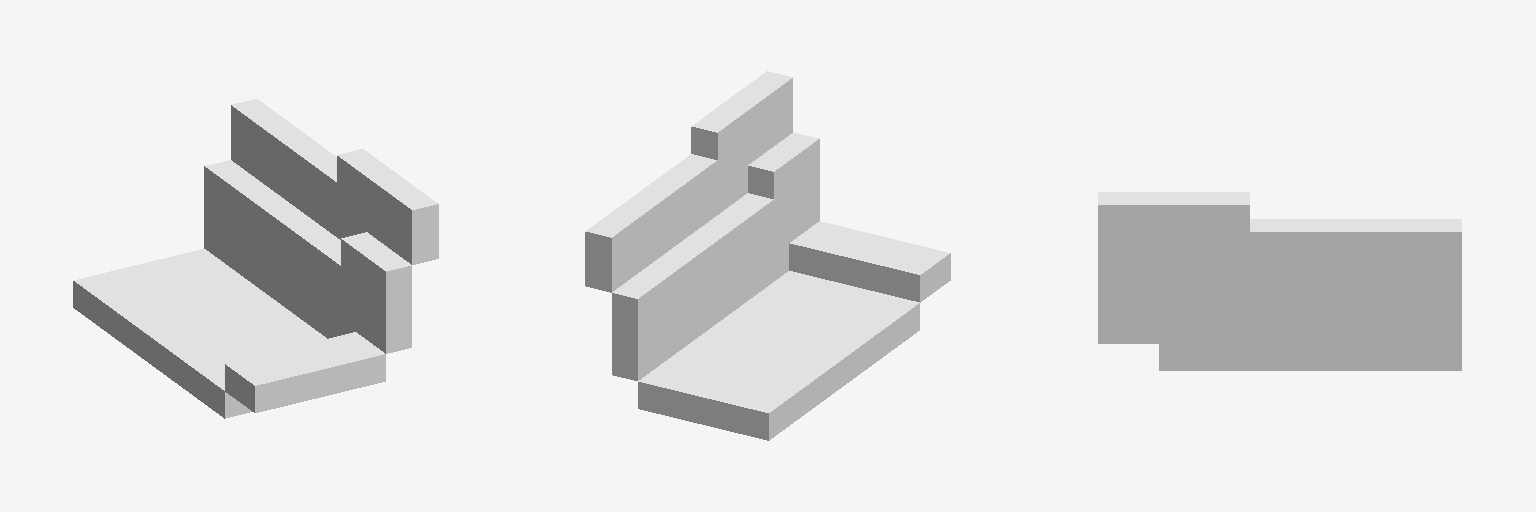
The model's file is map1.71.vox.obj.
3 renders of one model, left to right at view 1: azimuth 30°, elevation 25°; view 2: azimuth 150°, elevation 25°; view 3: azimuth 270°, elevation 25°, orthographic.
Visible parts, largest first — view 1: object 1; view 2: object 1; view 3: object 1.
Part boxes in pixels (bbox=[...]): object 1: bbox=[73, 99, 438, 418]; object 1: bbox=[585, 71, 950, 440]; object 1: bbox=[1098, 192, 1461, 370].
Bounding box in the file's own units: 14 × 14 × 24.